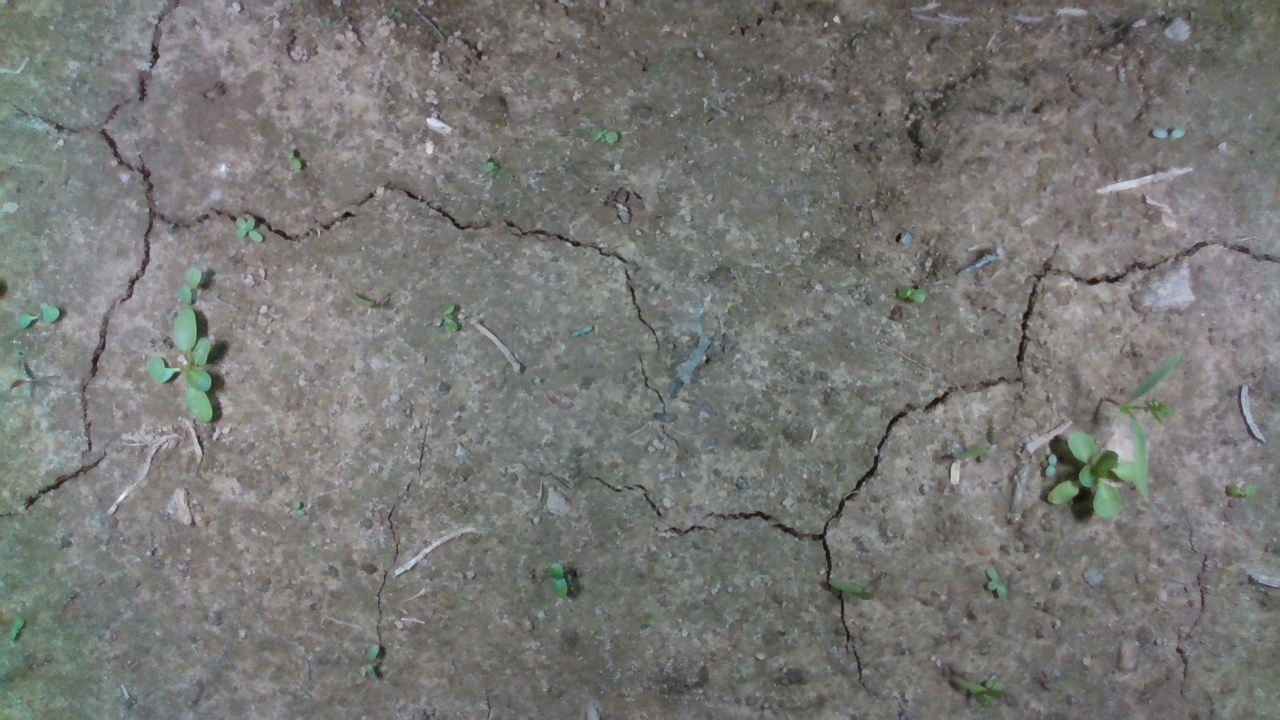weed: (9, 299, 73, 336), (980, 562, 1022, 604), (541, 560, 584, 601), (1146, 121, 1202, 151), (423, 298, 467, 331), (232, 213, 272, 249), (1222, 478, 1266, 509), (894, 283, 939, 309), (583, 123, 625, 146), (278, 144, 305, 176)
